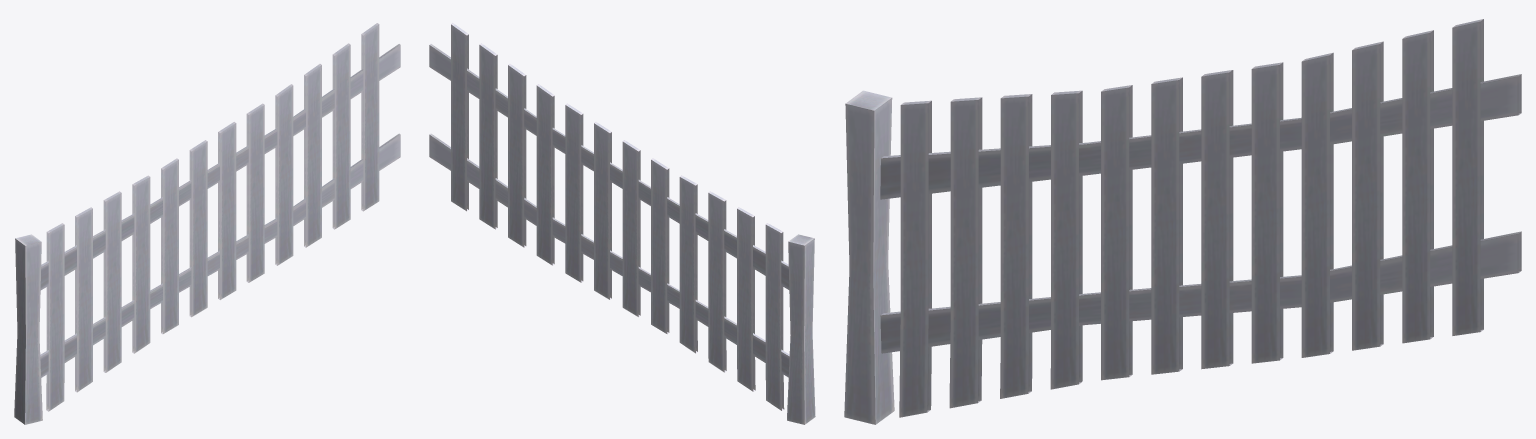
Rendered from INST_HTOWN_FENCEWHT20DEG.fbx.
The picture shows the model from 3 angles, left to right: view 1: azimuth 30°, elevation 25°; view 2: azimuth 150°, elevation 25°; view 3: azimuth 330°, elevation 25°; orthographic projection. The views are drawn at different scales.
Visible parts, largest first — view 1: INST_HTOWN_FENCEWHT20DEG; view 2: INST_HTOWN_FENCEWHT20DEG; view 3: INST_HTOWN_FENCEWHT20DEG.
Boxes of the visible parts, left/top/right/bottom form: INST_HTOWN_FENCEWHT20DEG: left=14, top=23, right=400, bottom=424; INST_HTOWN_FENCEWHT20DEG: left=429, top=23, right=815, bottom=424; INST_HTOWN_FENCEWHT20DEG: left=844, top=19, right=1521, bottom=424.
Size of the model in its own units: 30448 by 24175 by 1509.
2 materials, 2 textured.
